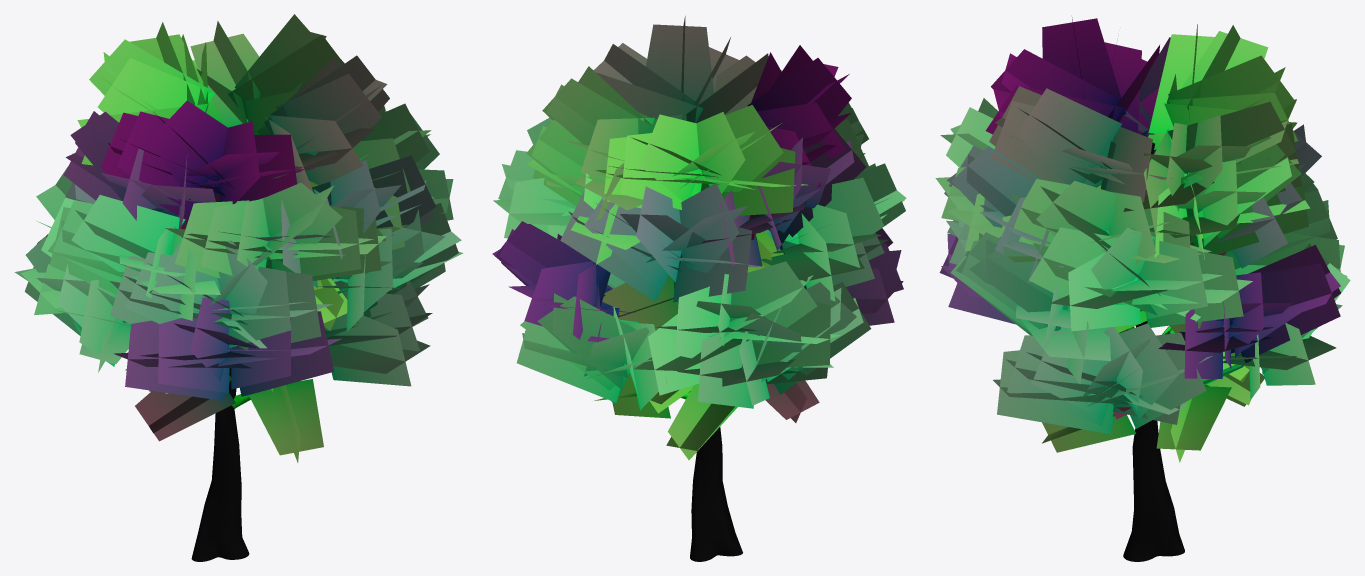
The model's file is Tree_3_3.fbx.
3 renders of one model, left to right at view 1: azimuth 30°, elevation 25°; view 2: azimuth 150°, elevation 25°; view 3: azimuth 270°, elevation 25°, orthographic. The views are drawn at different scales.
Visible parts, largest first — view 1: _3; view 2: _3; view 3: _3.
Part boxes in pixels (x1,y1,x2,y2): _3: (14,14,463,561); _3: (492,16,906,561); _3: (935,17,1350,561).
Size of the model in its own units: 1790 by 2272 by 1703.
